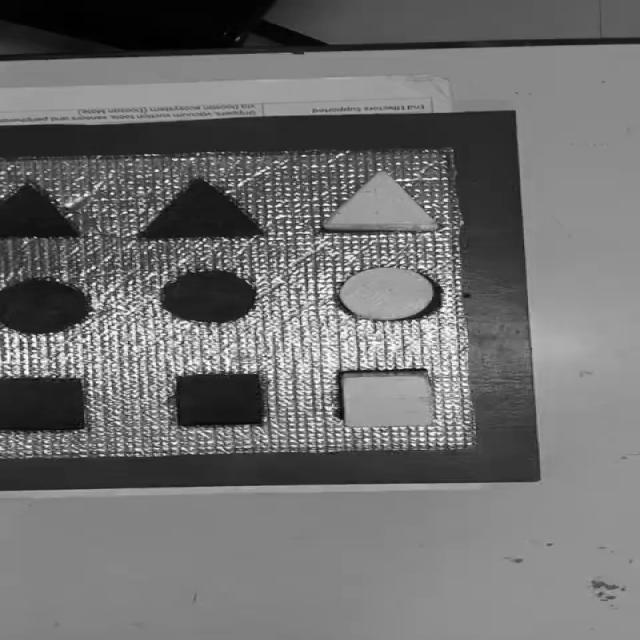mtcircle: (159, 268, 260, 324), (0, 278, 92, 335)
mtcube: (174, 372, 264, 428), (0, 376, 87, 433)
mttriangle: (136, 177, 265, 240), (0, 181, 82, 241)
wb: (0, 149, 473, 458)
ycircle: (336, 266, 440, 321)
ycube: (336, 368, 439, 428)
ytriangle: (322, 170, 442, 233)
